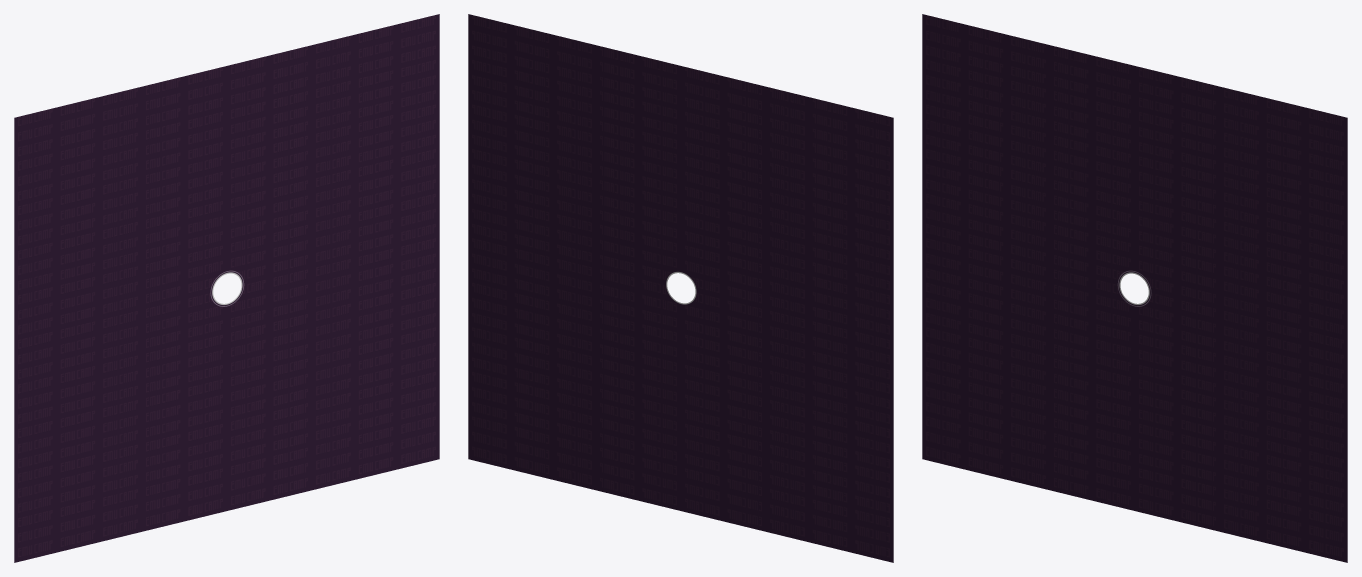
File: assets.FBX
3 views of the same model, side by side, from view 1: azimuth 30°, elevation 25°; view 2: azimuth 150°, elevation 25°; view 3: azimuth 330°, elevation 25° (orthographic).
Parts seen in each view (by area): view 1: background; view 2: background; view 3: background.
Boxes of the visible parts, x1,y1,x2,y2 form: background: (14, 14, 439, 562); background: (468, 14, 893, 562); background: (922, 14, 1347, 562).
Size of the model in its own units: 10 by 10 by 0.0149.
2 materials, 2 textured.
